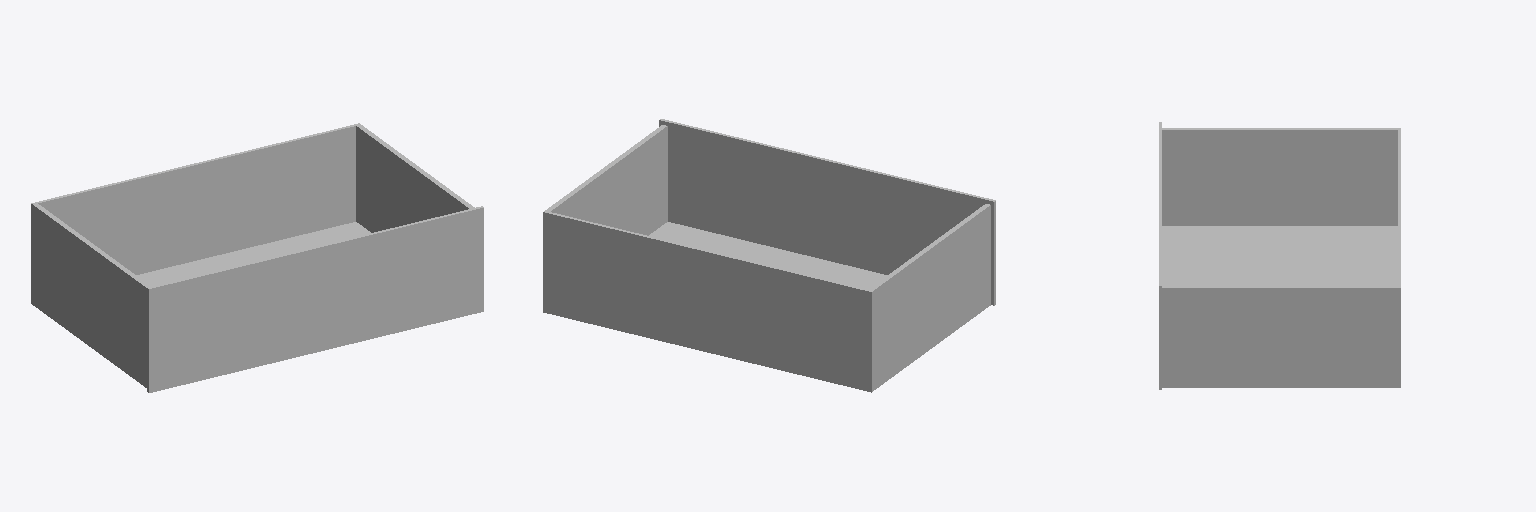
Rendered from cozy2_drawer3.obj.
3 views of the same model, side by side, from view 1: azimuth 30°, elevation 25°; view 2: azimuth 150°, elevation 25°; view 3: azimuth 270°, elevation 25° (orthographic).
Parts seen in each view (by area): view 1: off; view 2: off; view 3: off.
Boxes of the visible parts, x1=… form: off: x1=31, y1=123, x2=483, y2=392; off: x1=543, y1=119, x2=995, y2=392; off: x1=1159, y1=122, x2=1400, y2=389.
Bounding box in the file's own units: 0.7653 × 0.2273 × 0.48.